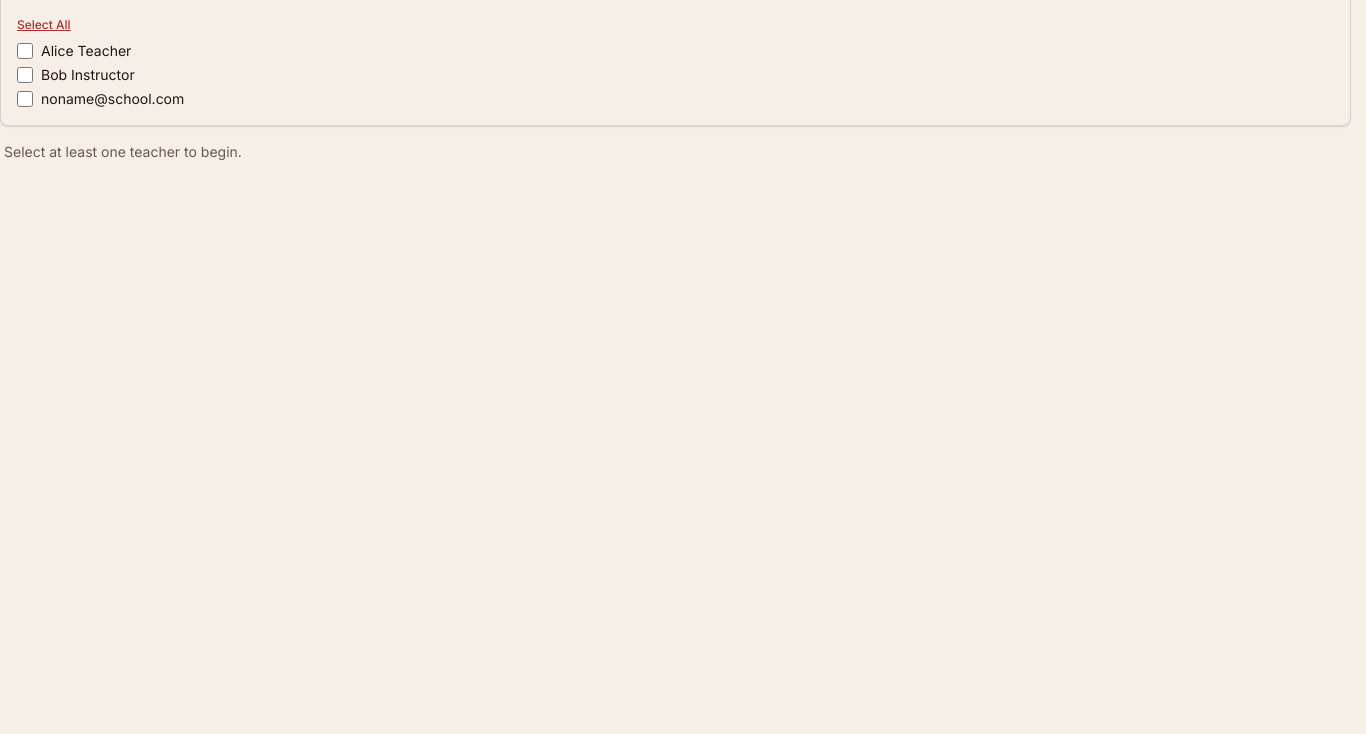
Scenario: AFTeamInteractionForm › question interaction › shows all 4 sections and 9 questions after teacher selection
The image size is (1366, 734).
Step 1. Click the button with test id "af-team-select-all" → (44, 25), box top-left (17, 17), bottom-right (71, 33)
(page scrolled)
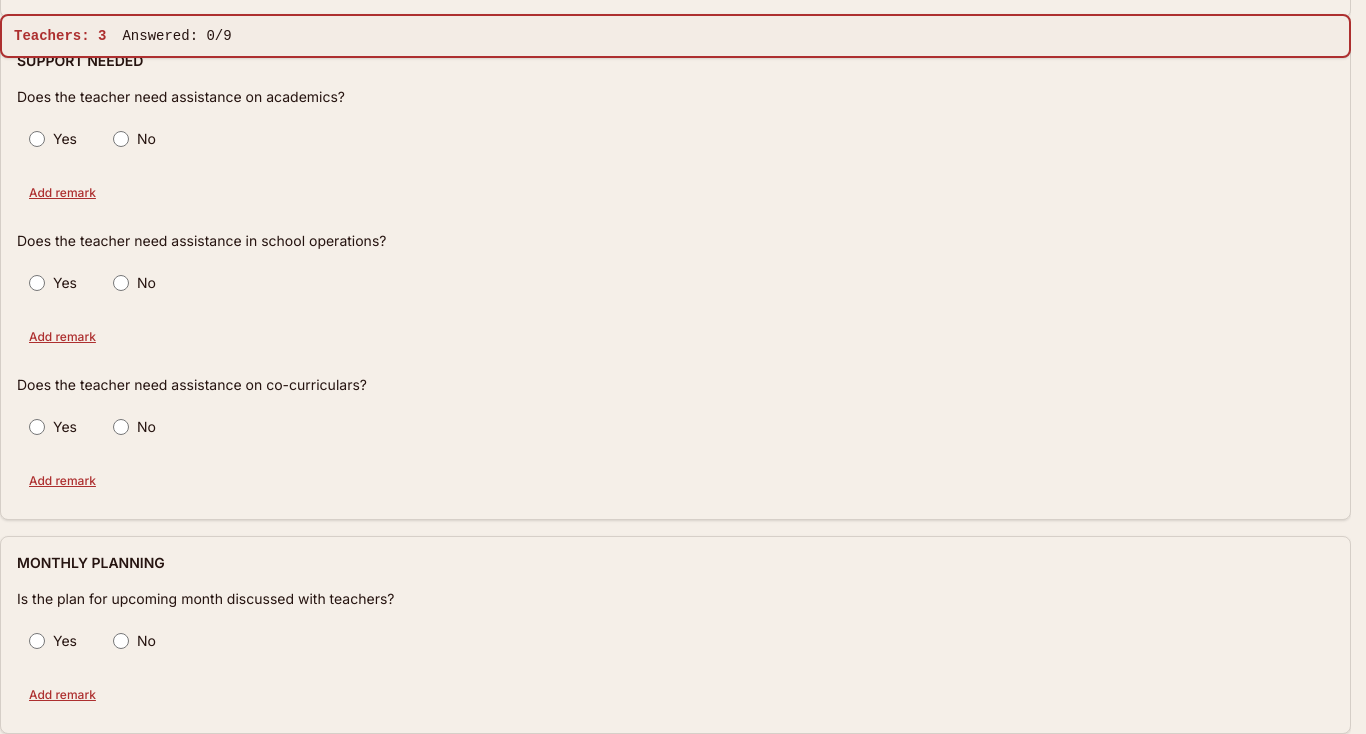
Check: the heading "Support Needed" is shown, box top-left (17, 52), bottom-right (143, 69)
Check: the heading "Monthly Planning" is shown, box top-left (17, 554), bottom-right (165, 571)
